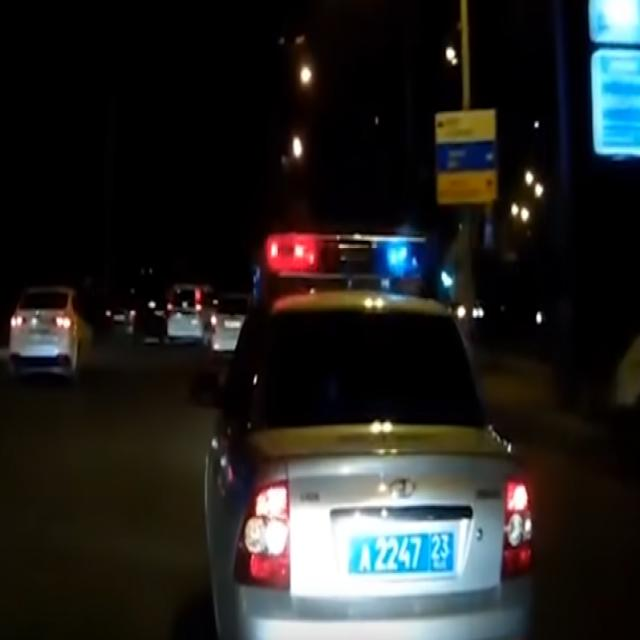non emergency car: (9, 280, 94, 384), (165, 278, 218, 347), (210, 292, 250, 356)
police car: (209, 226, 539, 640)
